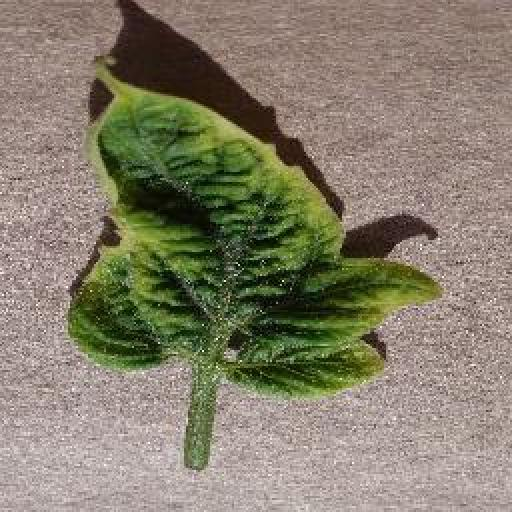Yellow Leaf Curl Virus: (65, 52, 440, 397)
